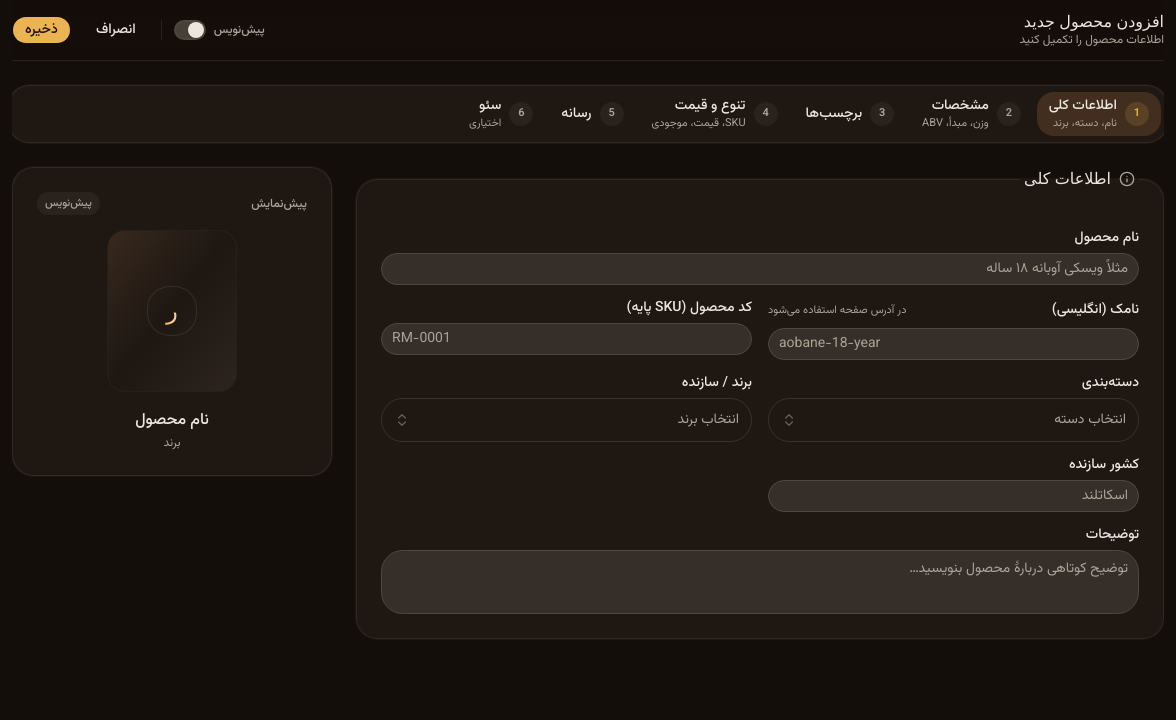
it: ProductForm complete authoring journeys › flags a field on blur without nagging mid-typing or opening the summary
The width and height of the screenshot is (1176, 720).
Type "الف" into the field labelled "نام محصول". click: (760, 269)
box: [381,253,1139,285]
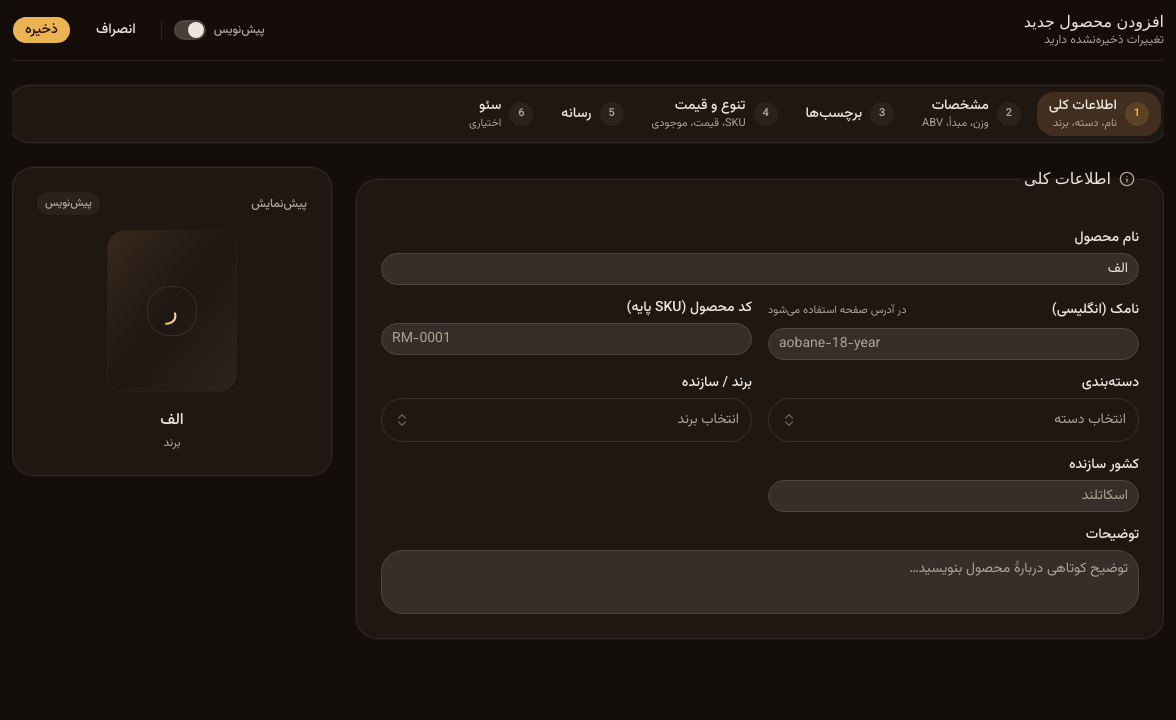
Clear the field labelled "نام محصول". click: (760, 269)
box: [381,253,1139,285]
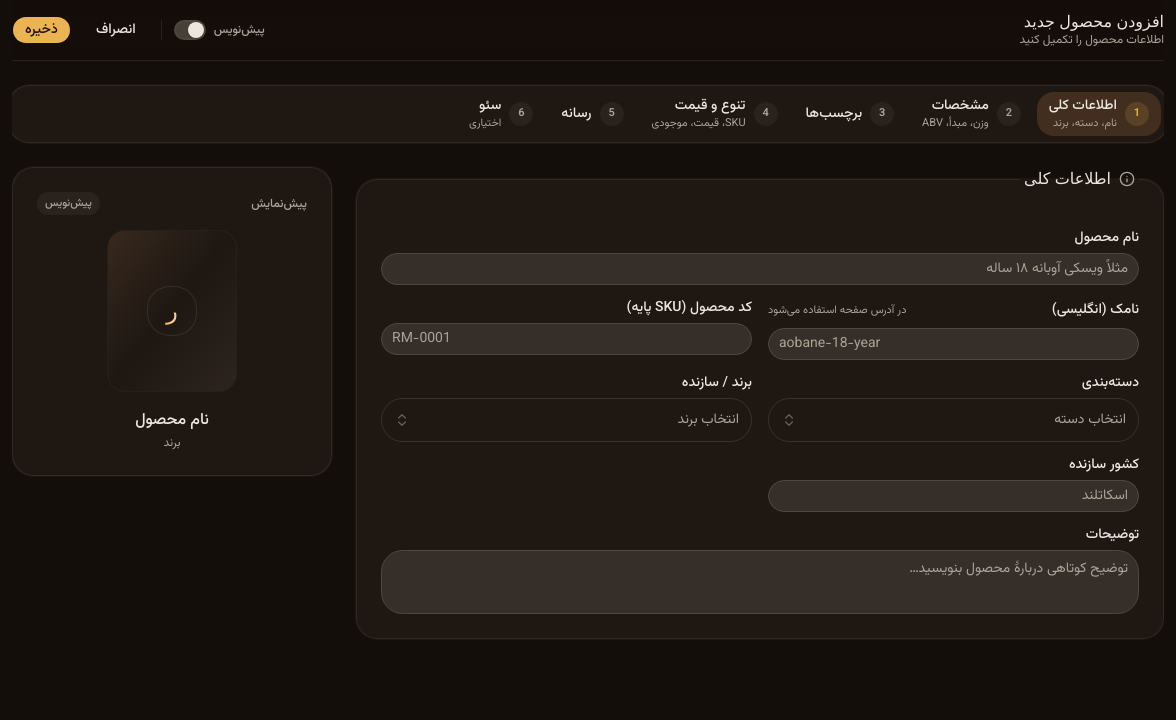
Expected: the text "نام محصول الزامی است" is not shown
Leave the field labelled "نام محصول", box [381,253,1139,285]
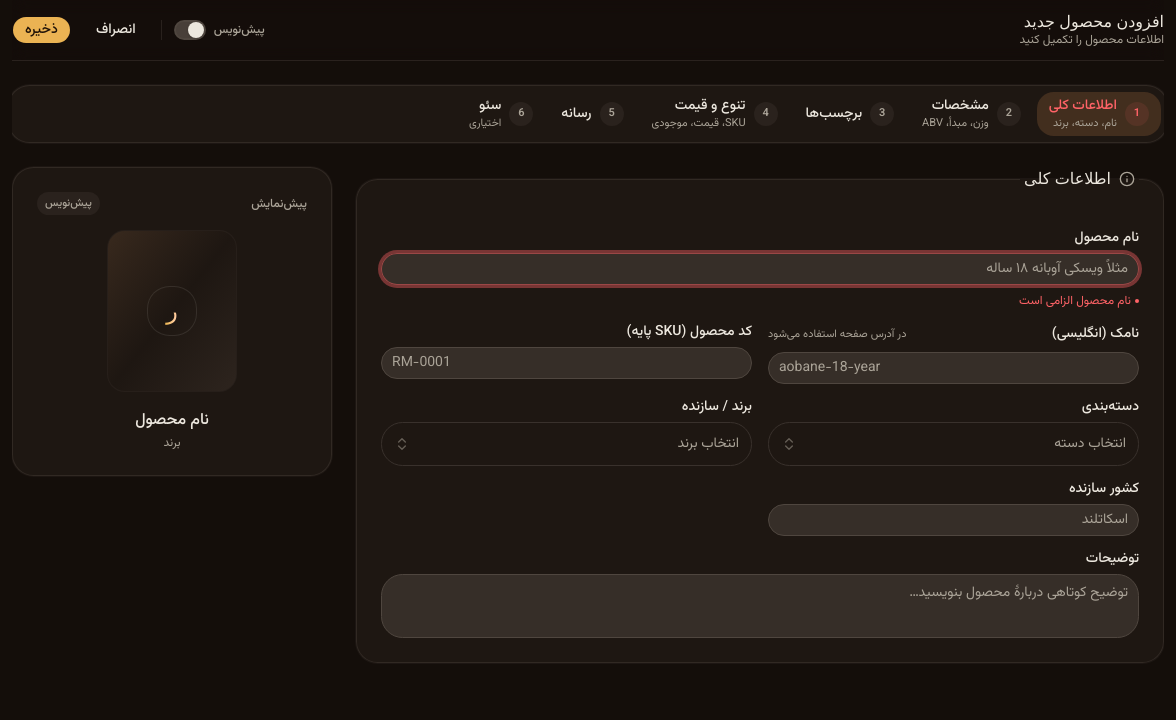
Expected: the text "نام محصول الزامی است" is shown, [1019,292,1139,310]
